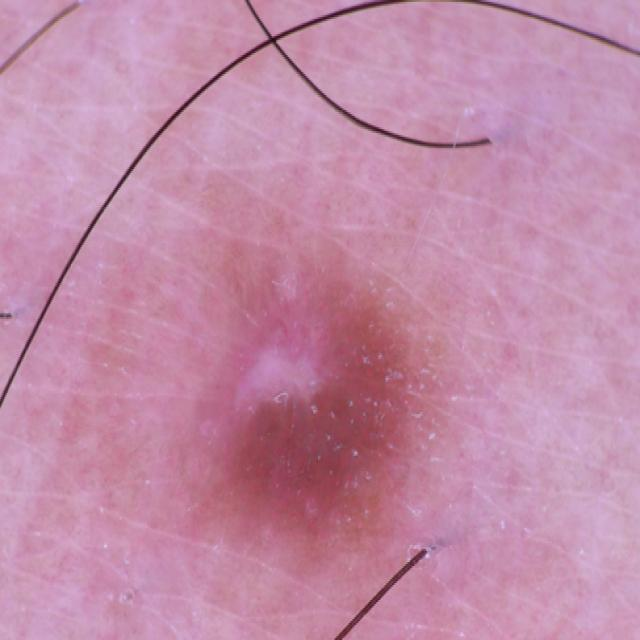Dermatofibroma: (126, 158, 499, 609)
